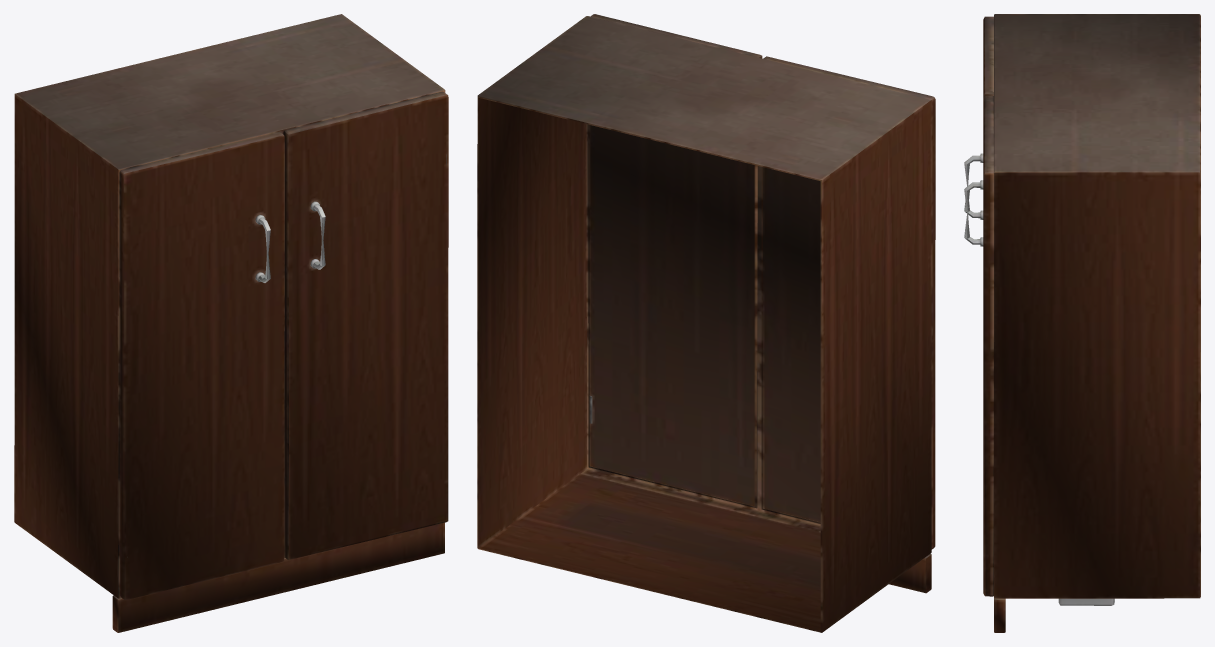
File: kit_upper_60_light-low.glb
3 views of the same model, side by side, from view 1: azimuth 30°, elevation 25°; view 2: azimuth 150°, elevation 25°; view 3: azimuth 270°, elevation 25° (orthographic). The views are drawn at different scales.
Visible parts, largest first — view 1: kit_upper_60_light-low; view 2: kit_upper_60_light-low; view 3: kit_upper_60_light-low.
Boxes of the visible parts, x1,y1,x2,y2 form: kit_upper_60_light-low: (14, 14, 448, 632); kit_upper_60_light-low: (477, 14, 935, 632); kit_upper_60_light-low: (964, 14, 1200, 632).
Bounding box in the file's own units: 0.5969 × 0.8088 × 0.3767.
1 material, 1 textured.
